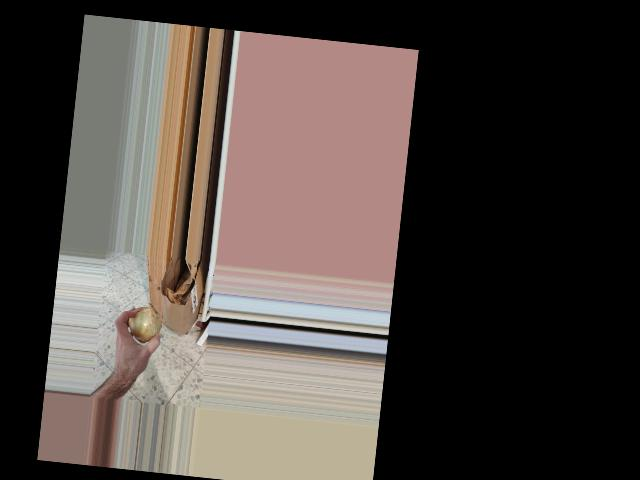onion: (124, 298, 164, 346)
